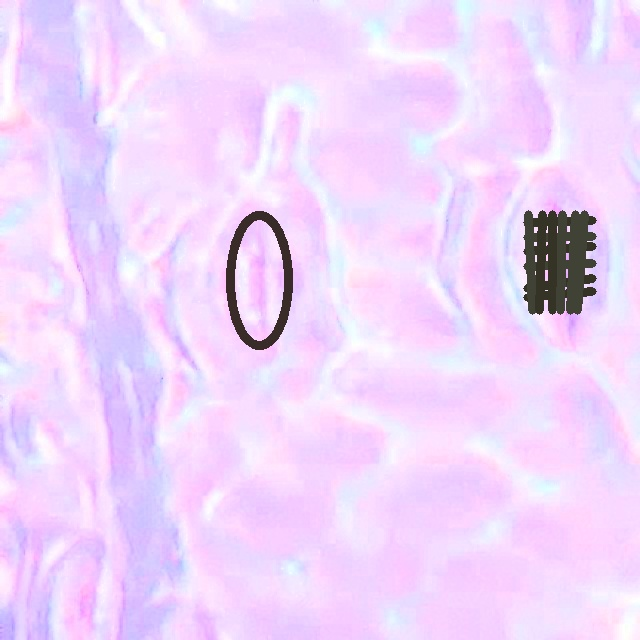close: (225, 211, 293, 350)
open: (523, 210, 596, 314)
